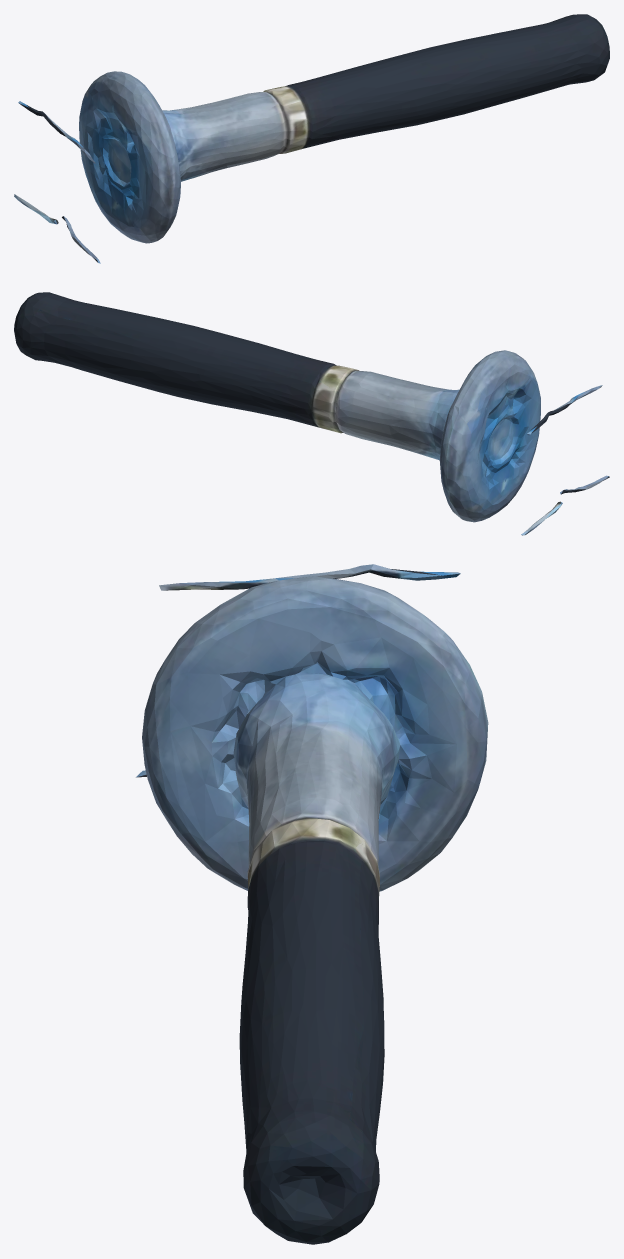
The model's file is maul.glb.
3 views of the same model, one above another, from view 1: azimuth 30°, elevation 25°; view 2: azimuth 150°, elevation 25°; view 3: azimuth 270°, elevation 25° (orthographic). The views are drawn at different scales.
Visible parts, largest first — view 1: maul; view 2: maul; view 3: maul.
Boxes of the visible parts, x1,y1,x2,y2 form: maul: (14,14,609,263); maul: (14,292,609,535); maul: (136,564,488,1244).
Bounding box in the file's own units: 0.85 × 0.2374 × 0.2391.
1 material, 1 textured.
